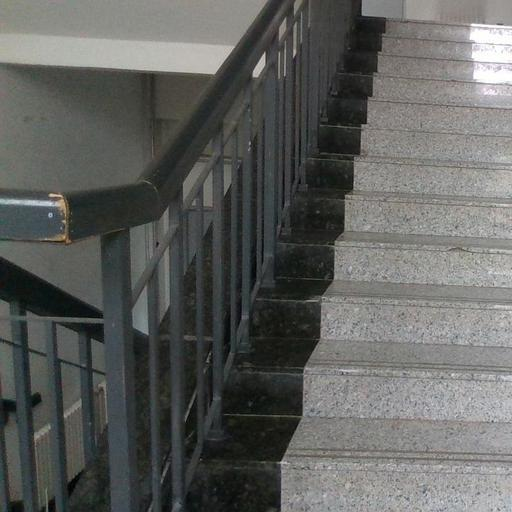stairs: (281, 21, 511, 511)
